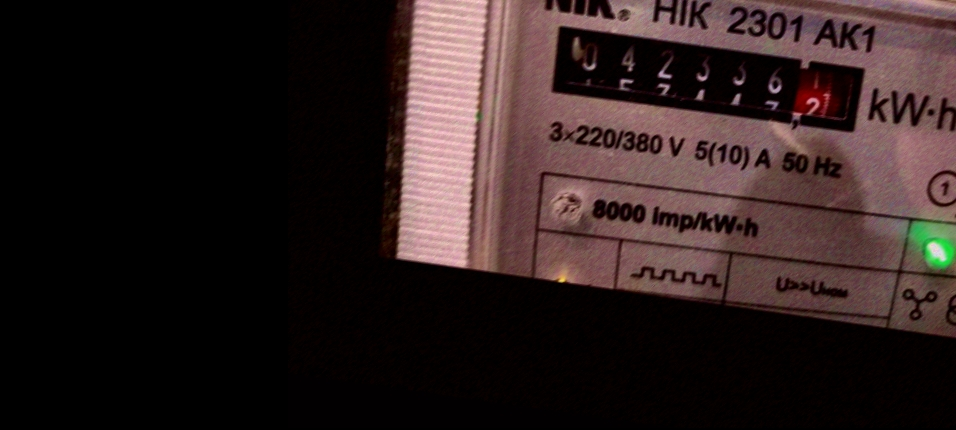0: (576, 38, 600, 73)
1: (806, 64, 822, 92)
2: (652, 45, 678, 81), (799, 94, 819, 118)
3: (689, 49, 711, 83), (728, 54, 749, 88)
4: (617, 40, 638, 74)
6: (762, 61, 786, 98)
screen: (534, 10, 878, 147)
